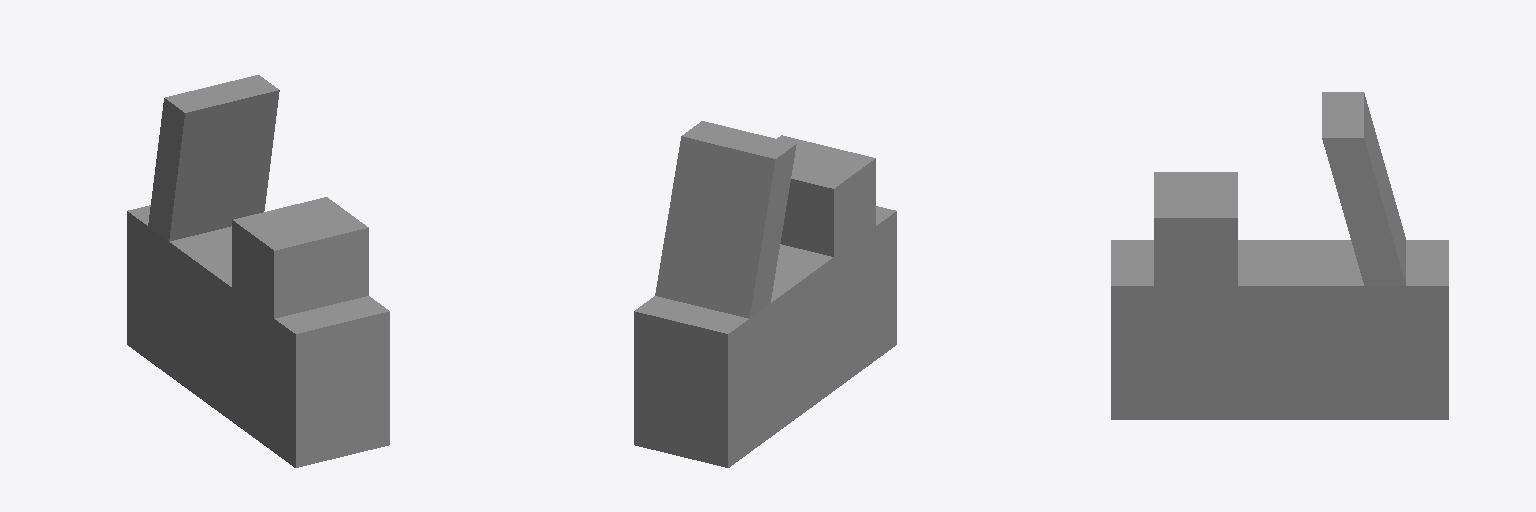
Rendered from scooter.obj.
The picture shows the model from 3 angles: view 1: azimuth 30°, elevation 25°; view 2: azimuth 150°, elevation 25°; view 3: azimuth 270°, elevation 25°; orthographic projection.
Visible parts, largest first — view 1: Cube; view 2: Cube; view 3: Cube.
Boxes of the visible parts, x1,y1,x2,y2 form: Cube: [127, 75, 389, 467]; Cube: [634, 121, 896, 467]; Cube: [1111, 92, 1448, 419].
Size of the model in its own units: 2.11 by 5.65 by 6.18.